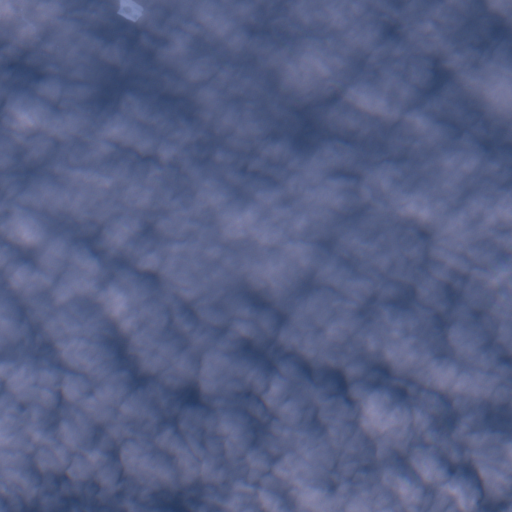Iceberg: (117, 0, 143, 22)
